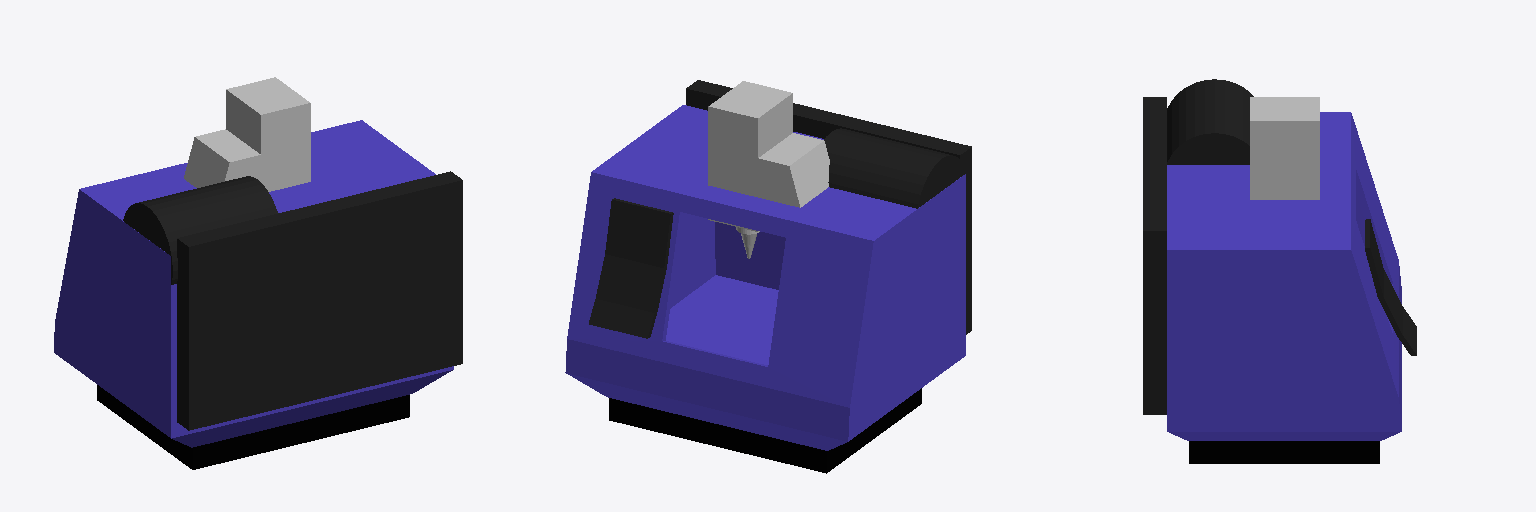
The model's file is CNC.obj.
3 renders of one model, left to right at view 1: azimuth 30°, elevation 25°; view 2: azimuth 150°, elevation 25°; view 3: azimuth 270°, elevation 25°, orthographic.
Visible parts, largest first — view 1: 큐브.001, body_Cube.001, 큐브, bottom_Cube, 실린더.001; view 2: body_Cube.001, 큐브, 큐브.002, 실린더.001, bottom_Cube, 큐브.001; view 3: body_Cube.001, 큐브.001, 큐브, 실린더.001, bottom_Cube, 큐브.002.
Boxes of the visible parts, x1=… form: 큐브.001: x1=177, y1=171, x2=462, y2=430; body_Cube.001: x1=54, y1=120, x2=453, y2=447; 큐브: x1=184, y1=77, x2=310, y2=191; bottom_Cube: x1=97, y1=385, x2=409, y2=469; 실린더.001: x1=123, y1=176, x2=277, y2=284; body_Cube.001: x1=565, y1=105, x2=965, y2=450; 큐브: x1=708, y1=81, x2=829, y2=231; 큐브.002: x1=589, y1=198, x2=673, y2=338; 실린더.001: x1=824, y1=128, x2=966, y2=208; bottom_Cube: x1=609, y1=388, x2=921, y2=473; 큐브.001: x1=686, y1=80, x2=971, y2=334; body_Cube.001: x1=1167, y1=112, x2=1401, y2=440; 큐브.001: x1=1143, y1=97, x2=1166, y2=414; 큐브: x1=1250, y1=97, x2=1319, y2=199; 실린더.001: x1=1167, y1=79, x2=1253, y2=164; bottom_Cube: x1=1189, y1=441, x2=1379, y2=463; 큐브.002: x1=1365, y1=219, x2=1416, y2=355.
Size of the model in its own units: 5.12 by 5.35 by 4.3.